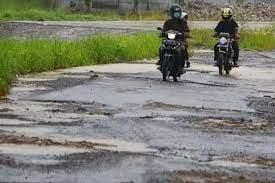Pothole: (0, 132, 158, 173), (11, 59, 275, 82), (0, 88, 126, 130), (188, 105, 273, 139)
